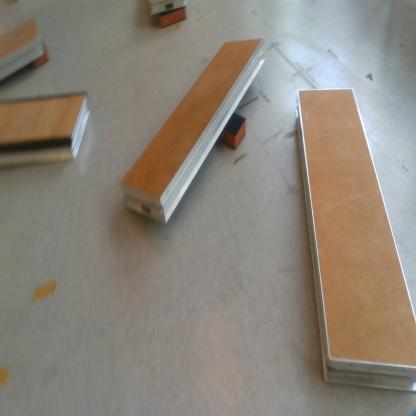Stairs: (295, 89, 416, 395), (121, 40, 267, 229), (2, 95, 92, 169), (2, 18, 43, 85)
